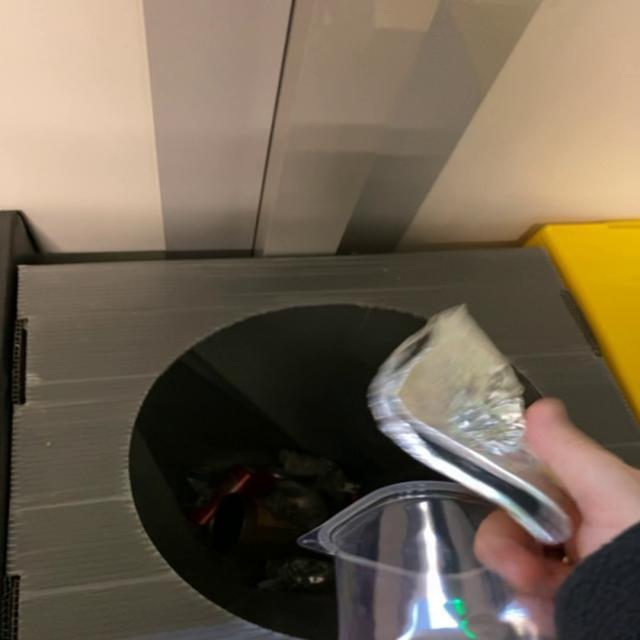Bin: (9, 248, 639, 640)
Metal: (369, 304, 574, 545)
